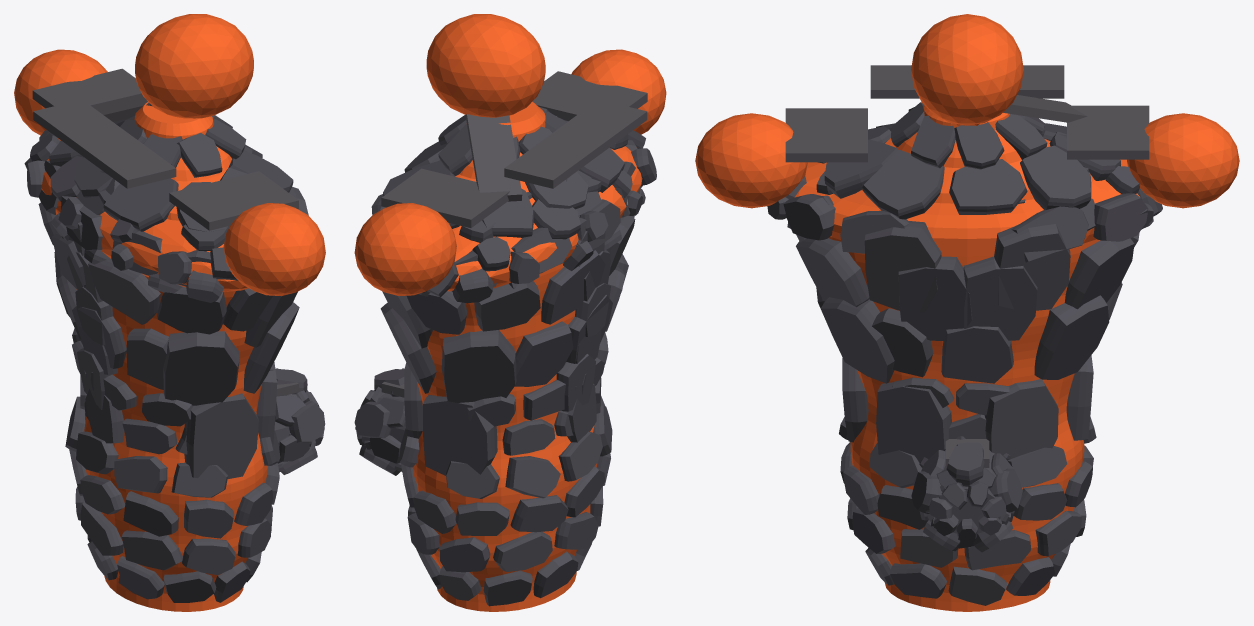
The model's file is boss_pyrelisk.glb.
The picture shows the model from 3 angles, left to right: view 1: azimuth 30°, elevation 25°; view 2: azimuth 150°, elevation 25°; view 3: azimuth 270°, elevation 25°; orthographic projection. The views are drawn at different scales.
Parts seen in each view (by area): view 1: Pyrelisk_Torso, Pyrelisk_Core, Pyrelisk_WalkDeck, Pyrelisk_UpperArm, Pyrelisk_WalkNeck; view 2: Pyrelisk_Torso, Pyrelisk_Core, Pyrelisk_WalkDeck, Pyrelisk_UpperArm, Pyrelisk_WalkNeck; view 3: Pyrelisk_Torso, Pyrelisk_Core, Pyrelisk_WalkDeck, Pyrelisk_UpperArm, Pyrelisk_Forearm, Pyrelisk_WalkNeck.
Boxes of the visible parts, <box> form: Pyrelisk_Torso: <box>24,115,308,602</box>; Pyrelisk_Core: <box>14,14,325,611</box>; Pyrelisk_WalkDeck: <box>32,68,298,230</box>; Pyrelisk_UpperArm: <box>274,369,325,474</box>; Pyrelisk_WalkNeck: <box>90,93,152,121</box>; Pyrelisk_Torso: <box>371,107,656,606</box>; Pyrelisk_Core: <box>354,14,666,611</box>; Pyrelisk_WalkDeck: <box>381,71,647,227</box>; Pyrelisk_UpperArm: <box>354,369,405,475</box>; Pyrelisk_WalkNeck: <box>465,114,522,201</box>; Pyrelisk_Torso: <box>767,102,1162,605</box>; Pyrelisk_Core: <box>695,14,1239,611</box>; Pyrelisk_WalkDeck: <box>785,65,1149,162</box>; Pyrelisk_UpperArm: <box>911,436,1022,552</box>; Pyrelisk_Forearm: <box>925,481,1010,541</box>; Pyrelisk_WalkNeck: <box>1003,95,1087,122</box>.
Size of the model in its own units: 120 by 264 by 225.
